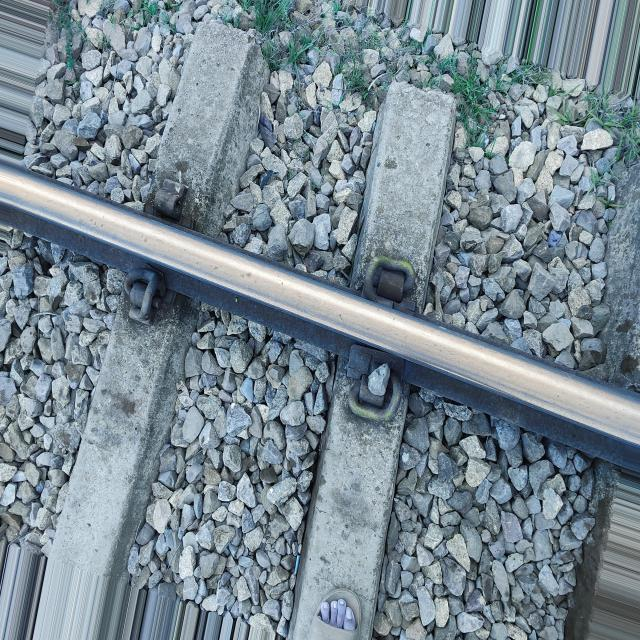Good Fasteners: (346, 344, 407, 421), (362, 256, 416, 314), (124, 268, 163, 324)
Missing Fastener: (154, 179, 187, 221)
